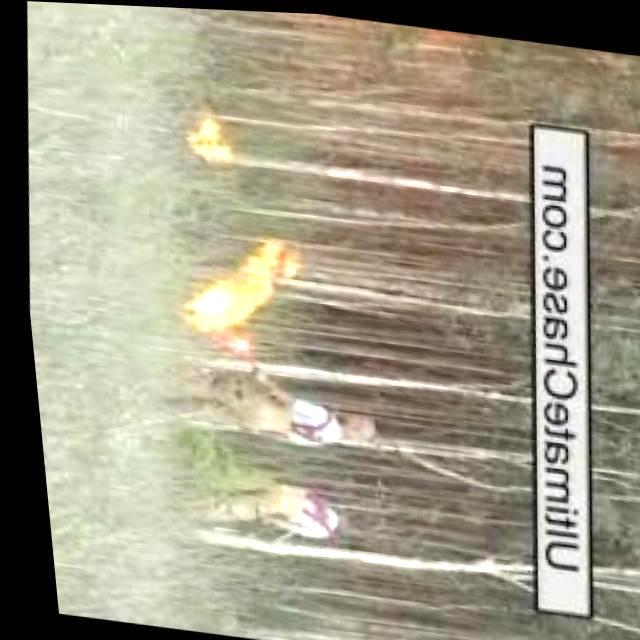fire: (177, 225, 296, 339), (179, 106, 237, 162)
